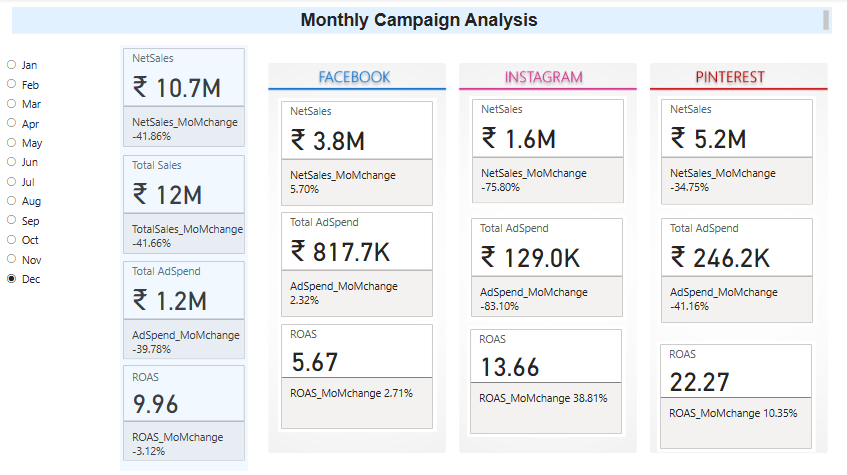

What the dashboard file says about the page in this screenshot:
{"tool":"powerbi","page":{"name":"Monthly Campaign Analysis","canvas":[1280,720],"ordinal":1},"visuals":[{"type":"cardVisual","fields":{"Data":["_Measures.Total NetSales"]},"box":[183.1,70.6,191.5,157.9],"z":0},{"type":"image","box":[399.8,53.8,846.6,666.9],"z":1000},{"type":"cardVisual","fields":{"Data":["_Measures.Total AdSpend"]},"box":[183.1,388,191.5,156.2],"z":2000},{"type":"cardVisual","fields":{"Data":["_Measures.Total Sales"]},"box":[183.1,230.1,191.5,157.9],"z":3000},{"type":"cardVisual","fields":{"Data":["_Measures.Total NetSales"]},"box":[419.9,149.5,236.9,166.3],"z":4000},{"type":"cardVisual","fields":{"Data":["_Measures.Total AdSpend","_Measures.ConversionRate%","_Measures.Total Comments","_Measures.Total Shares","_Measures.Total Likes"]},"box":[419.9,312.4,236.9,384.7],"z":5000},{"type":"cardVisual","fields":{"Data":["_Measures.Total AdSpend","_Measures.ConversionRate%","_Measures.Total Comments","_Measures.Total Shares","_Measures.Total Likes"]},"box":[987.7,312.4,240.2,384.7],"z":6000},{"type":"cardVisual","fields":{"Data":["_Measures.Total AdSpend","_Measures.ConversionRate%","_Measures.Total Comments","_Measures.Total Shares","_Measures.Total Likes"]},"box":[708.9,312.4,236.9,384.7],"z":7000},{"type":"cardVisual","fields":{"Data":["_Measures.ROAS"]},"box":[183.1,544.3,191.5,152.9],"z":8000},{"type":"textbox","box":[169.7,70.6,218.4,636.6],"z":9000},{"type":"textbox","box":[21.8,13.4,1224.6,40.3],"z":10000},{"type":"slicer","fields":{"Values":["Calendar.MonthName"]},"box":[0,80.7,150.9,431.7],"z":11000},{"type":"cardVisual","fields":{"Data":["_Measures.Total NetSales"]},"box":[705.1,146.4,236,165.8],"z":12000},{"type":"cardVisual","fields":{"Data":["_Measures.Total NetSales"]},"box":[987.4,146.4,236,167.3],"z":13000}]}

Visuals, with their boxes in screenshot pixels (x1, y1, x2, y2), scaled from the page's 1280x720 canvas onto the 847x475 screenshot:
cardVisual - _Measures.Total NetSales: 121/47/248/151
image: 265/35/825/474
cardVisual - _Measures.Total AdSpend: 121/256/248/359
cardVisual - _Measures.Total Sales: 121/152/248/256
cardVisual - _Measures.Total NetSales: 278/99/435/208
cardVisual - _Measures.Total AdSpend x _Measures.ConversionRate%: 278/206/435/460
cardVisual - _Measures.Total AdSpend x _Measures.ConversionRate%: 654/206/813/460
cardVisual - _Measures.Total AdSpend x _Measures.ConversionRate%: 469/206/626/460
cardVisual - _Measures.ROAS: 121/359/248/460
textbox: 112/47/257/467
textbox: 14/9/825/35
slicer - Calendar.MonthName: 0/53/100/338
cardVisual - _Measures.Total NetSales: 467/97/623/206
cardVisual - _Measures.Total NetSales: 653/97/810/207
